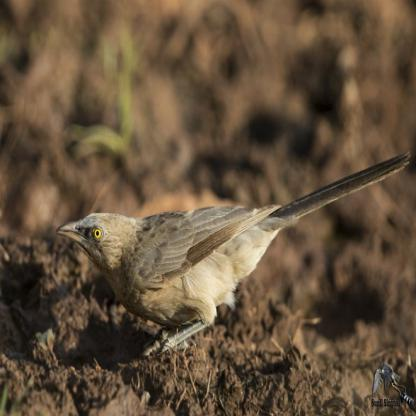Burung: (55, 150, 410, 360)
